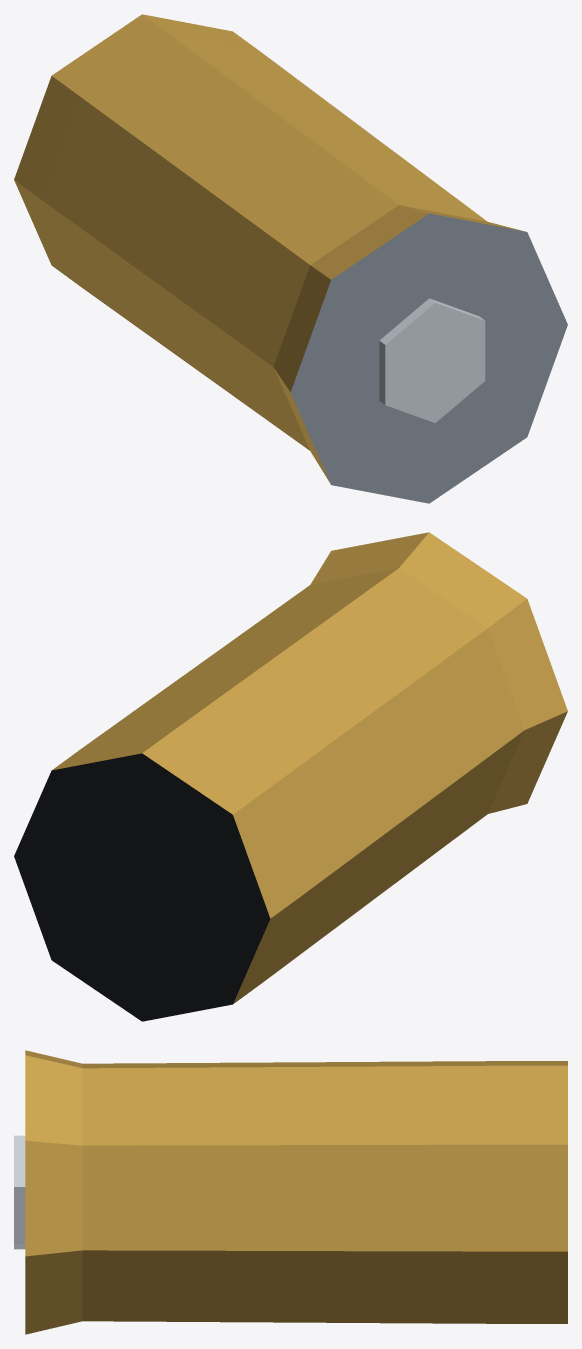
Rendered from shell_casing.glb.
The picture shows the model from 3 angles, top to bottom: view 1: azimuth 30°, elevation 25°; view 2: azimuth 150°, elevation 25°; view 3: azimuth 270°, elevation 25°; orthographic projection. The views are drawn at different scales.
Visible parts, largest first — view 1: Body; view 2: Body; view 3: Body.
Part boxes in pixels (left/top/right/bottom): Body: left=14, top=14, right=567, bottom=503; Body: left=14, top=532, right=567, bottom=1021; Body: left=14, top=1050, right=567, bottom=1334.
Size of the model in its own units: 0.0106 by 0.0106 by 0.0194.
